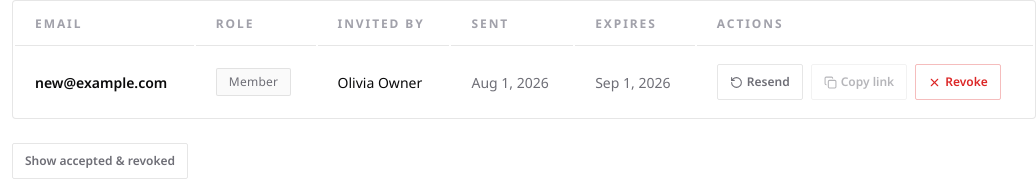
InvitationsPanel › removes the row when an invitation is revoked
Click the button "Revoke" at (958, 82), box x1=915 y1=64 x2=1001 y2=100
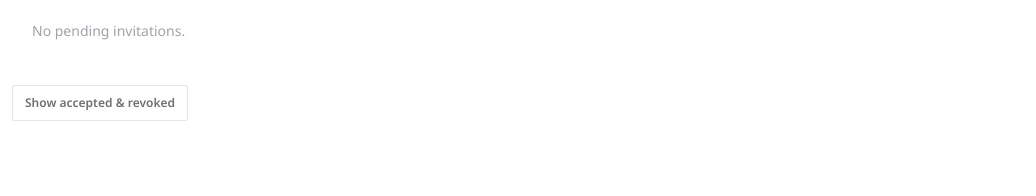
Expected: the text "No pending invitations." is shown, x1=32 y1=21 x2=185 y2=40
